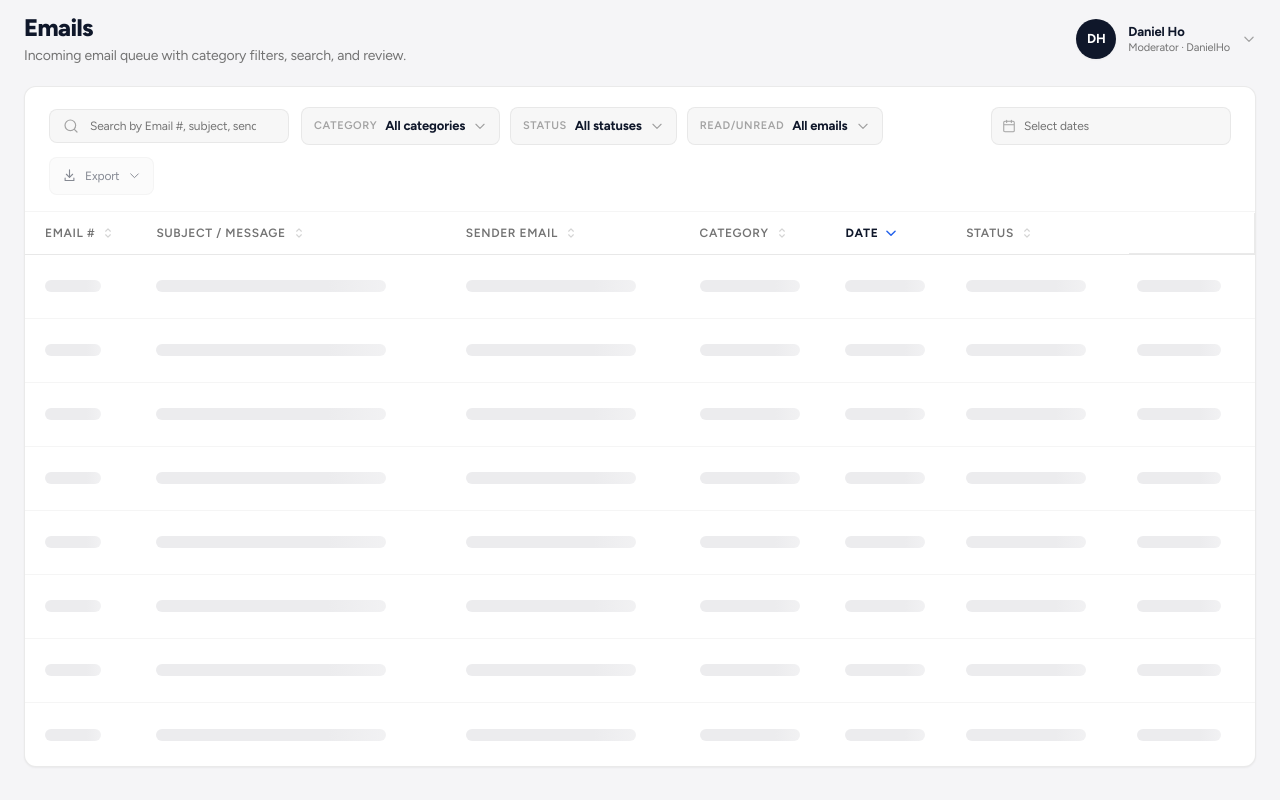
Emails table › hides counts while loading and shows placeholder rows
The image size is (1280, 800).
Click the button "Category All categories" at (401, 126), box [301,107,500,145]
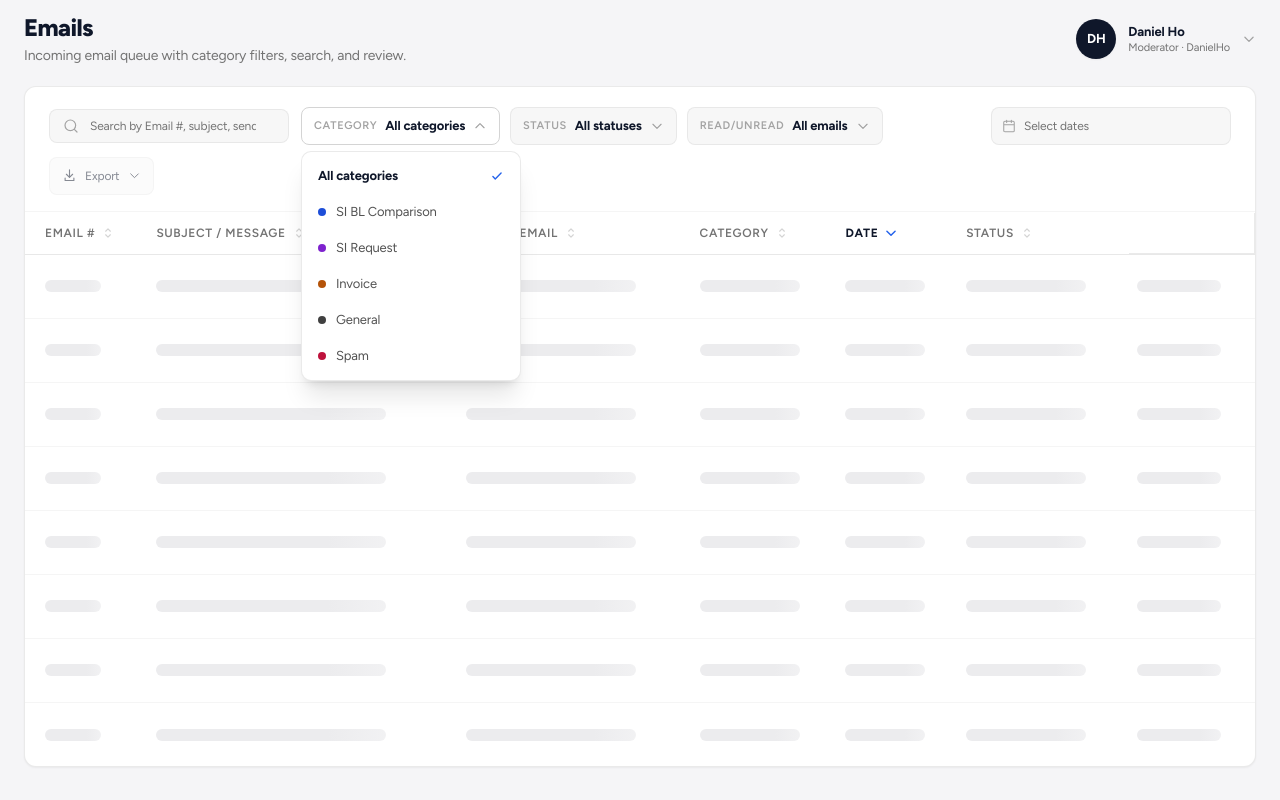
expect the menu item "All categories" is shown: met, box [318,168,504,183]
